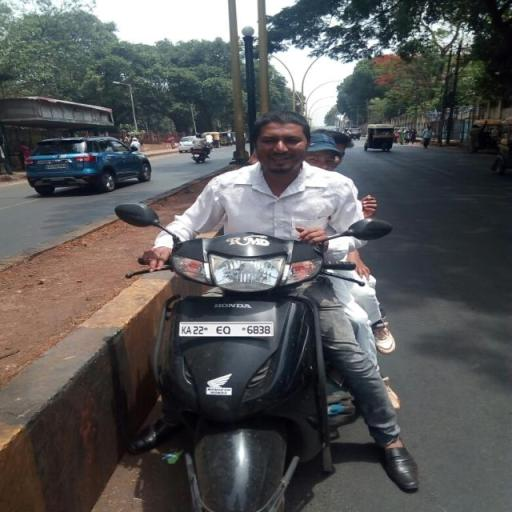tripple riding: (114, 113, 400, 259)
